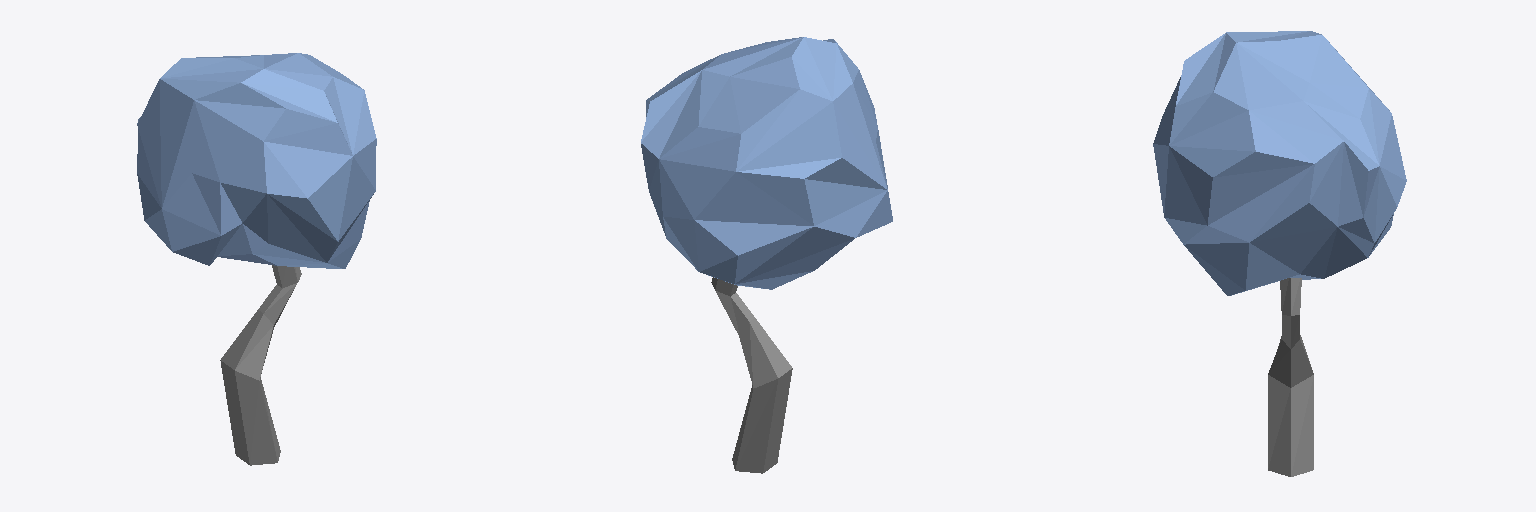
The model's file is tree2.obj.
3 views of the same model, side by side, from view 1: azimuth 30°, elevation 25°; view 2: azimuth 150°, elevation 25°; view 3: azimuth 270°, elevation 25° (orthographic).
Parts seen in each view (by area): view 1: Hedra001, Cylinder002; view 2: Hedra001, Cylinder002; view 3: Hedra001, Cylinder002.
Boxes of the visible parts, <box> form: Hedra001: <box>137,53,376,268</box>; Cylinder002: <box>220,265,301,465</box>; Hedra001: <box>641,37,892,289</box>; Cylinder002: <box>711,277,792,473</box>; Hedra001: <box>1153,31,1406,295</box>; Cylinder002: <box>1268,278,1313,476</box>.
Size of the model in its own units: 65.79 by 121 by 67.59.